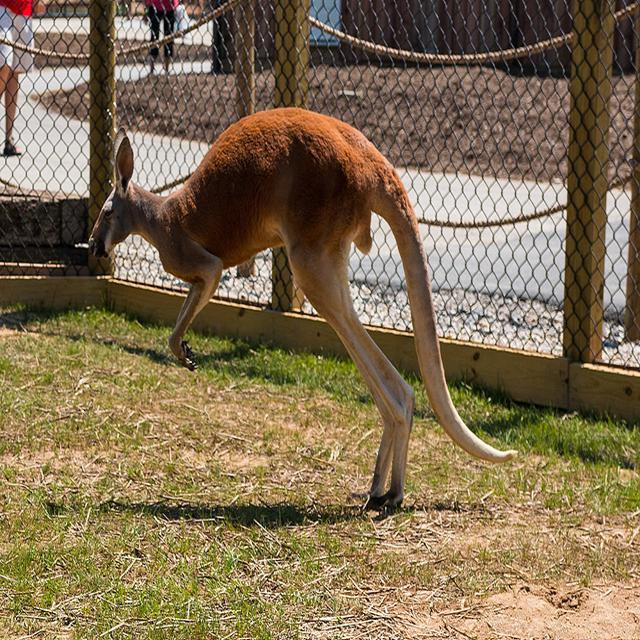kangaroo: (90, 105, 418, 515)
